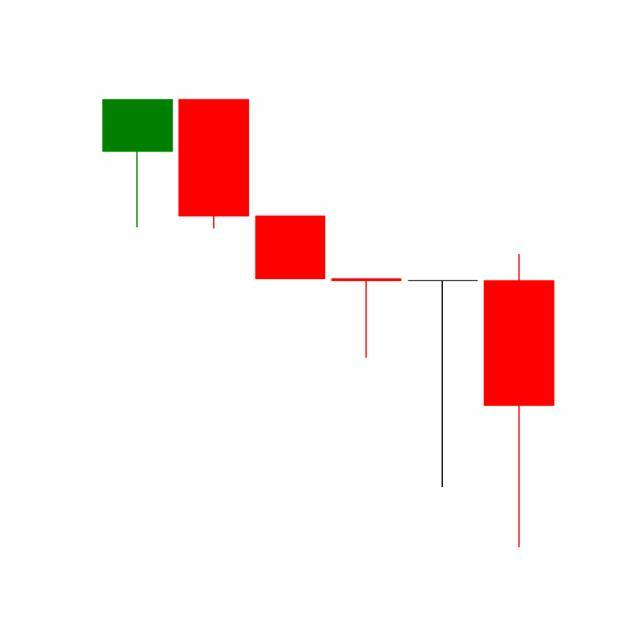Dragonfly Doji: (404, 278, 482, 491)
